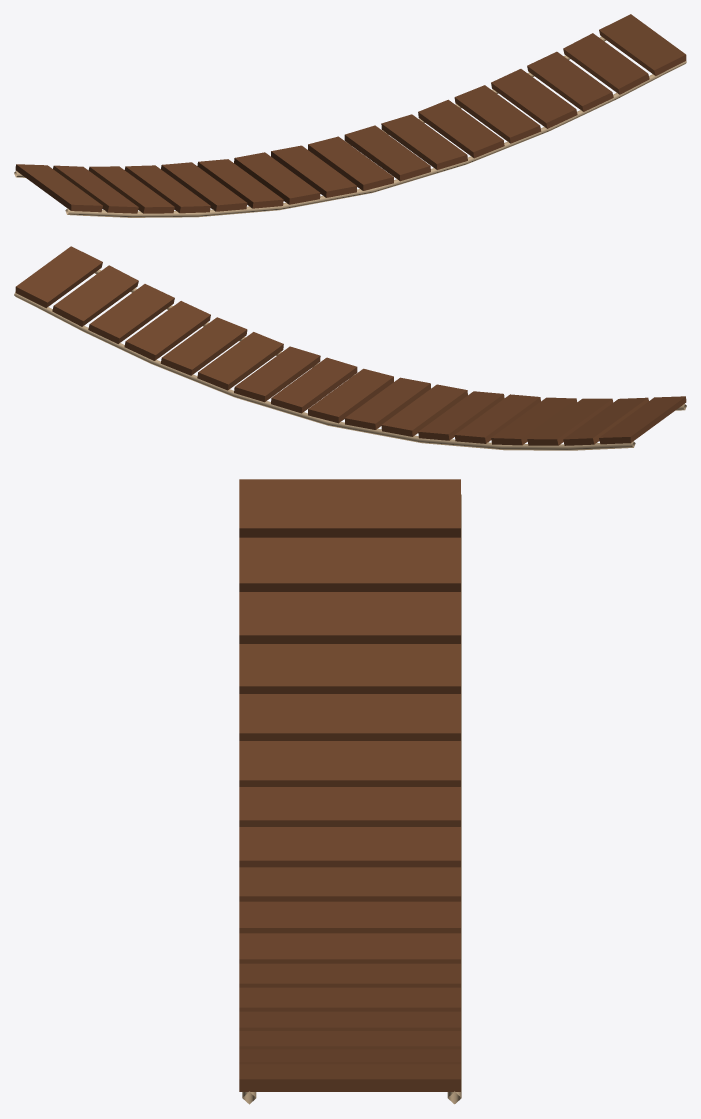
Rendered from bridge 1.fbx.
3 renders of one model, top to bottom at view 1: azimuth 30°, elevation 25°; view 2: azimuth 150°, elevation 25°; view 3: azimuth 270°, elevation 25°, orthographic. The views are drawn at different scales.
Visible parts, largest first — view 1: bridge; view 2: bridge; view 3: bridge.
Part boxes in pixels (x1,y1,x2,y2): bridge: (14, 14, 686, 217); bridge: (14, 246, 686, 450); bridge: (239, 479, 461, 1104).
Size of the model in its own units: 2219 by 221 by 346.
